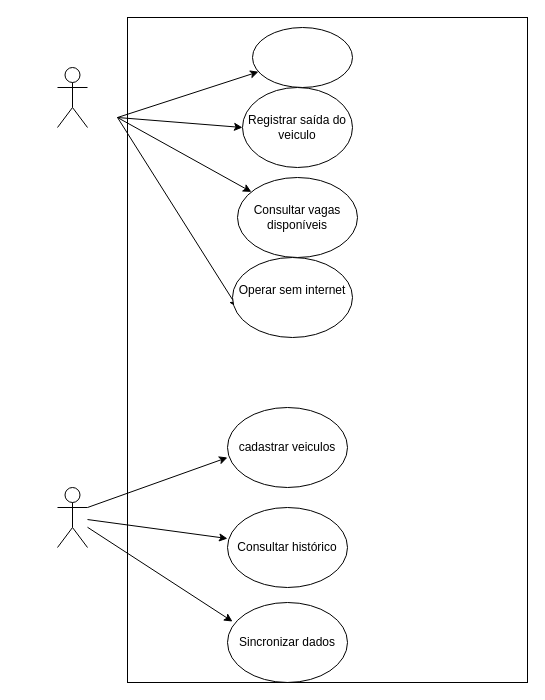
Some shapes in this 545 by 700 pixel diagram are drawn without their labels. Each missing label, with the centre of its shape:
administrador: (x=72, y=517)
Operador da Guarita: (x=72, y=97)
registrar entrada do veículo: (x=302, y=57)
